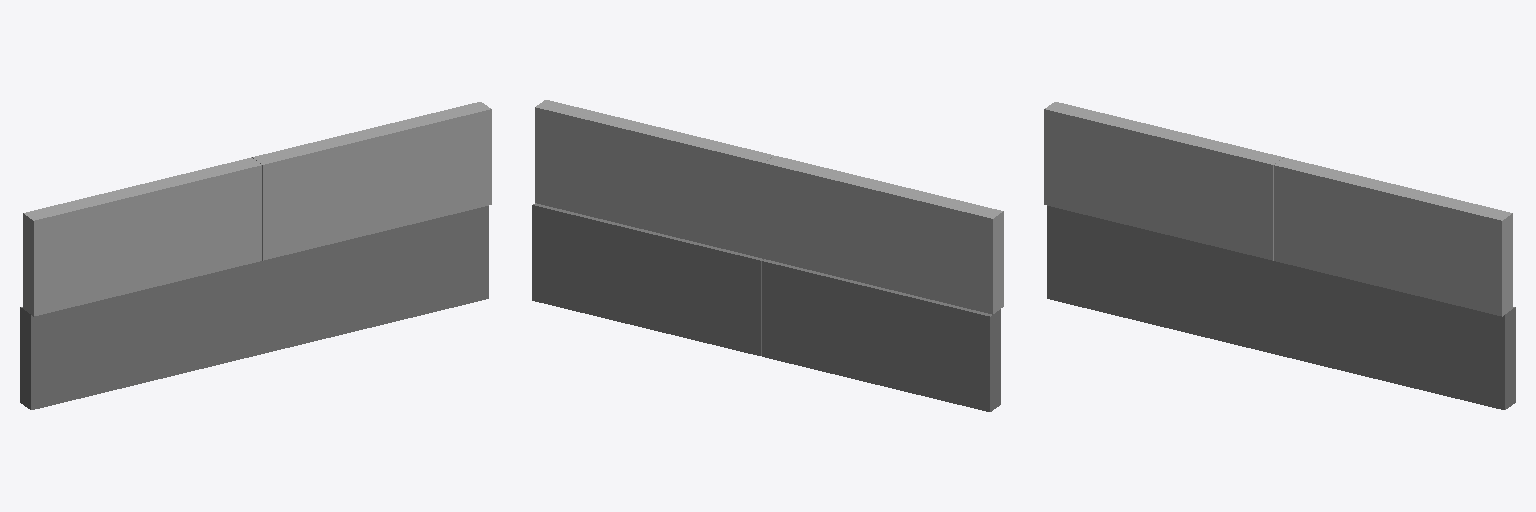
The robot description file, URDF, robot "wall_step_and_groove":
<?xml version="1.0"?>
<robot name="wall_step_and_groove">

  <link name="world"/>

  <link name="wall_link">
    <!-- ==================== 1. 상단 왼쪽 벽 (기준 위치 y=0.0) ==================== -->
    <visual>
      <origin xyz="-1.25125 0.0 1.5" rpy="0 0 0"/>
      <geometry>
        <box size="2.4975 0.2 1.0"/>
      </geometry>
      <material name="gray">
        <color rgba="0.7 0.7 0.7 1.0"/>
      </material>
    </visual>
    <collision>
      <origin xyz="-1.25125 0.0 1.5" rpy="0 0 0"/>
      <geometry>
        <box size="2.4975 0.2 1.0"/>
      </geometry>
    </collision>

    <!-- ==================== 2. 상단 오른쪽 벽 (기준 위치 y=0.0) ==================== -->
    <visual>
      <origin xyz="1.25125 0.0 1.5" rpy="0 0 0"/>
      <geometry>
        <box size="2.4975 0.2 1.0"/>
      </geometry>
      <material name="gray">
        <color rgba="0.7 0.7 0.7 1.0"/>
      </material>
    </visual>
    <collision>
      <origin xyz="1.25125 0.0 1.5" rpy="0 0 0"/>
      <geometry>
        <box size="2.4975 0.2 1.0"/>
      </geometry>
    </collision>

    <!-- ==================== 3. 하단 왼쪽 벽 (단차 적용 y=0.05) ==================== -->
    <visual>
      <origin xyz="-1.25125 0.05 0.5" rpy="0 0 0"/>
      <geometry>
        <box size="2.4975 0.2 1.0"/>
      </geometry>
      <material name="dark_gray">
        <color rgba="0.55 0.55 0.55 1.0"/>
      </material>
    </visual>
    <collision>
      <origin xyz="-1.25125 0.05 0.5" rpy="0 0 0"/>
      <geometry>
        <box size="2.4975 0.2 1.0"/>
      </geometry>
    </collision>

    <!-- ==================== 4. 하단 오른쪽 벽 (단차 적용 y=0.05) ==================== -->
    <visual>
      <origin xyz="1.25125 0.05 0.5" rpy="0 0 0"/>
      <geometry>
        <box size="2.4975 0.2 1.0"/>
      </geometry>
      <material name="dark_gray">
        <color rgba="0.55 0.55 0.55 1.0"/>
      </material>
    </visual>
    <collision>
      <origin xyz="1.25125 0.05 0.5" rpy="0 0 0"/>
      <geometry>
        <box size="2.4975 0.2 1.0"/>
      </geometry>
    </collision>

    <!-- 관성 요소 -->
    <inertial>
      <origin xyz="0 0.025 1.0" rpy="0 0 0"/>
      <mass value="100.0"/>
      <inertia ixx="33.67" ixy="0.0" ixz="0.0"
               iyy="241.67" iyz="0.0"
               izz="208.67"/>
    </inertial>
  </link>

  <!-- 월드에 벽 고정 -->
  <joint name="wall_fixed_joint" type="fixed">
    <parent link="world"/>
    <child link="wall_link"/>
    <origin xyz="2.0 0.0 0.0" rpy="0 0 0"/>
  </joint>

  <!-- Gazebo 시뮬레이션 설정 -->
  <gazebo reference="wall_link">
    <static>true</static>
  </gazebo>

</robot>

--- Facts derived from the render (not from the file) ---
The picture shows the robot from 3 angles, left to right: view 1: azimuth 30°, elevation 25°; view 2: azimuth 150°, elevation 25°; view 3: azimuth 330°, elevation 25°; orthographic projection.
Model wall_step_and_groove with 2 links and 1 joints (1 fixed), rooted at world, posed all joints at 0.
Visible links, largest first — view 1: wall_link; view 2: wall_link; view 3: wall_link.
Link boxes in pixels (x1,y1,x2,y2): wall_link: (20,102,491,409); wall_link: (532,100,1003,411); wall_link: (1044,102,1515,409).
Bounding box of the posed robot: 5 × 0.25 × 2 m (x, y, z).
Geometry: primitives only (box / cylinder / sphere), no mesh files.
